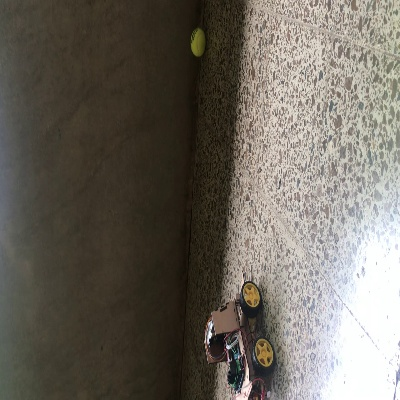Ball: (188, 28, 205, 56)
Robot: (202, 280, 274, 398)
